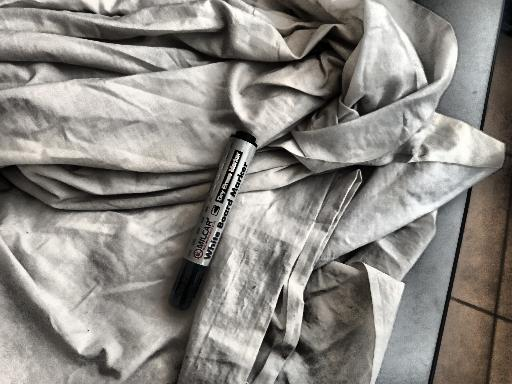marcador negro: (169, 131, 257, 310)
